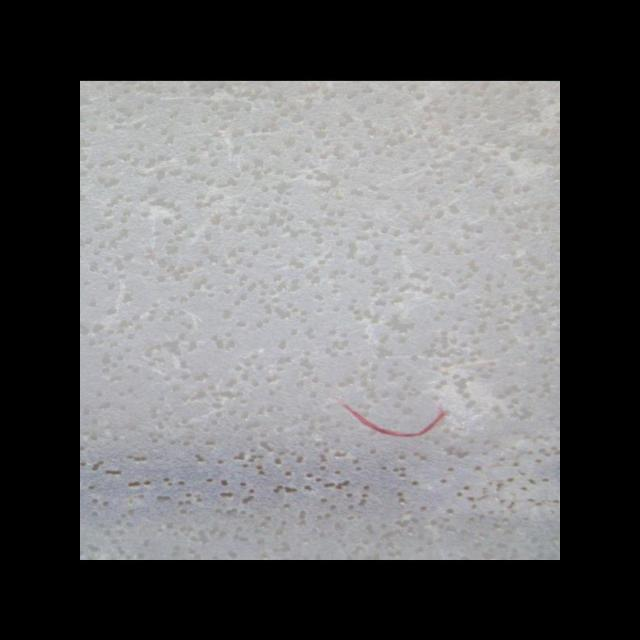Fibre: (325, 400, 453, 440)
